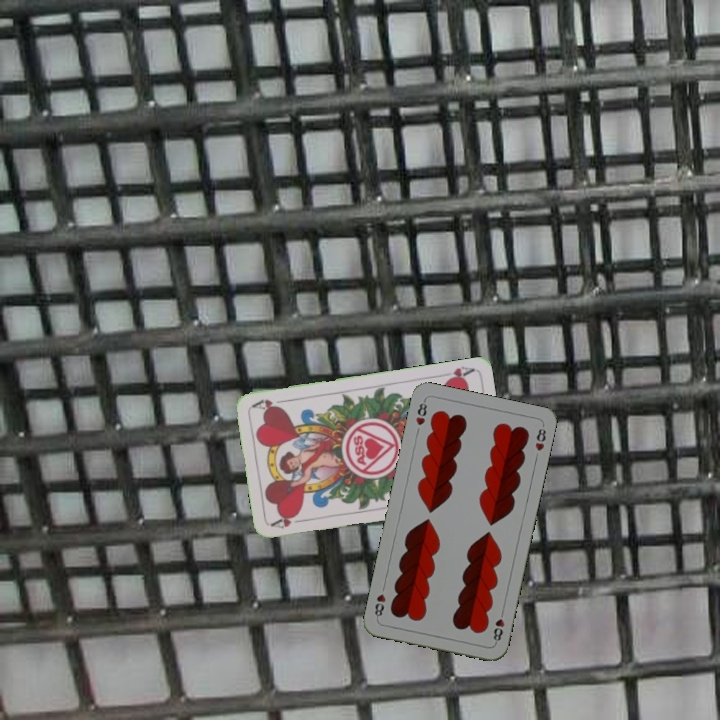H8: (489, 606, 507, 646), (412, 396, 430, 428)
HA: (436, 362, 476, 385), (268, 510, 308, 531)
